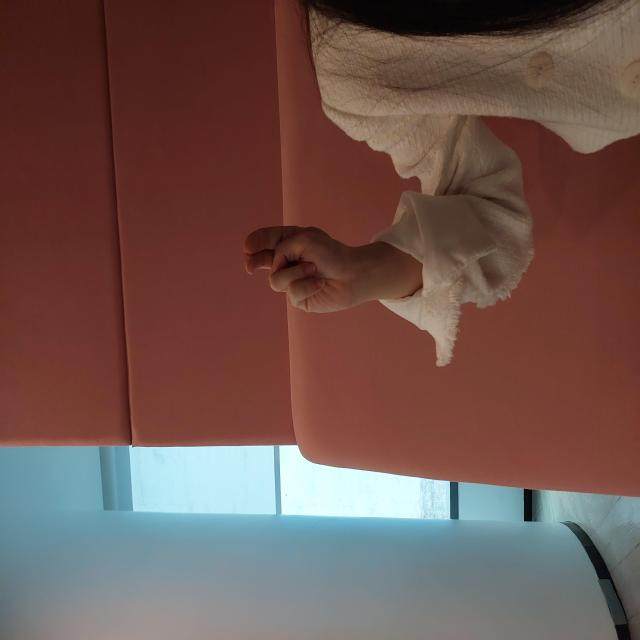N: (328, 242, 417, 350)
